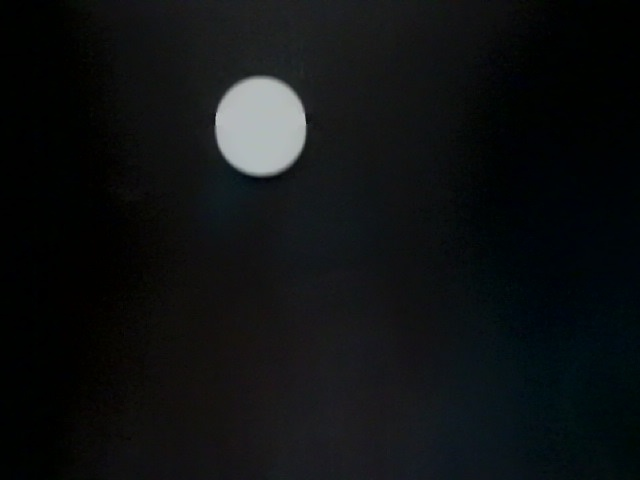CYLJ: (58, 263, 181, 375)
